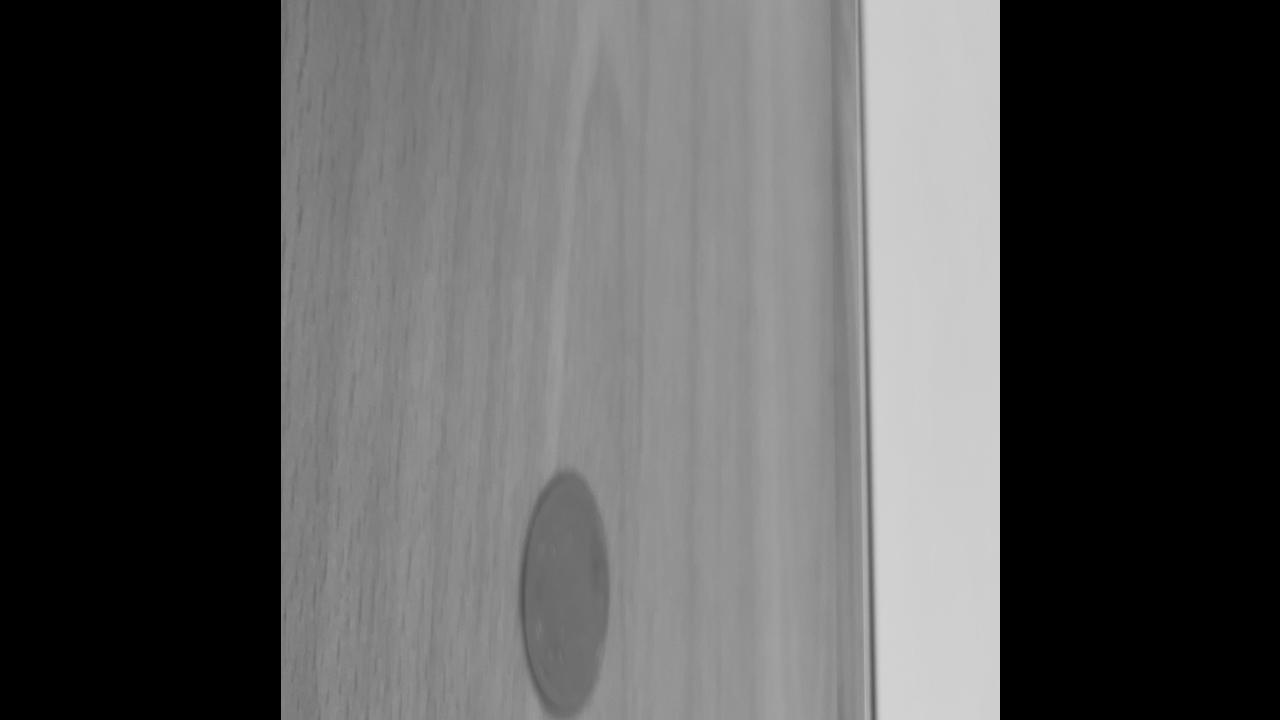coin: (518, 467, 610, 720)
